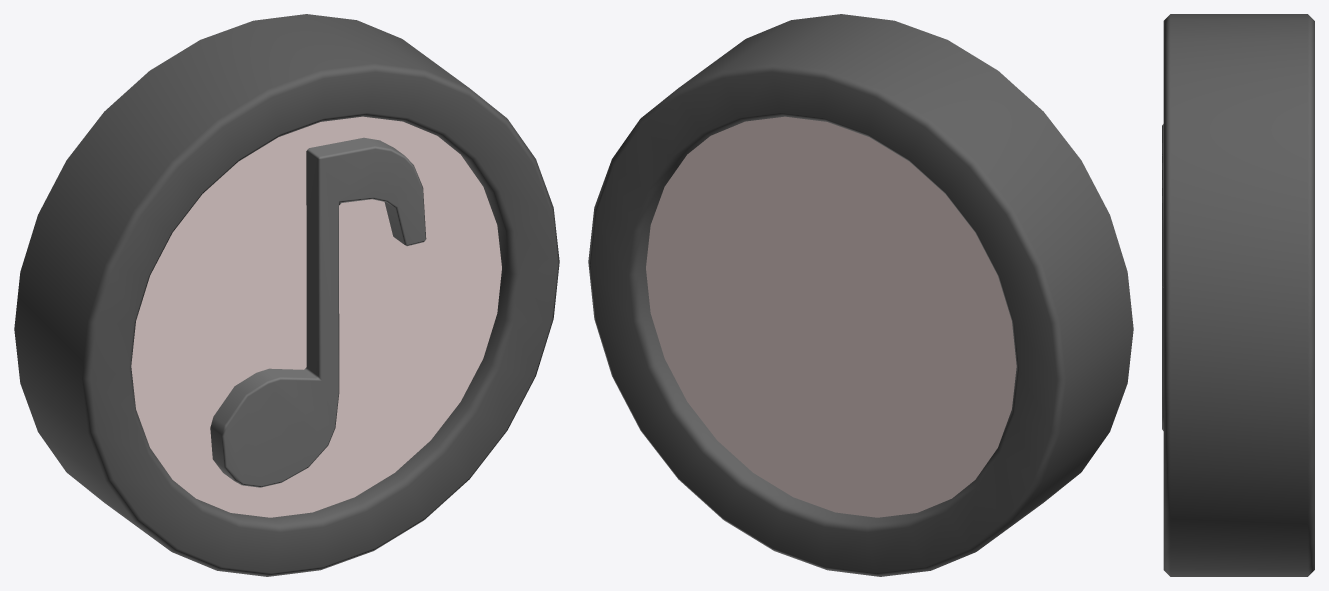
File: Store_13_Note_Sign_2.glb
3 renders of one model, left to right at view 1: azimuth 30°, elevation 25°; view 2: azimuth 150°, elevation 25°; view 3: azimuth 270°, elevation 25°, orthographic. The views are drawn at different scales.
Visible parts, largest first — view 1: Store_13_Note_Sign_2; view 2: Store_13_Note_Sign_2; view 3: Store_13_Note_Sign_2.
Part boxes in pixels (x1=…): Store_13_Note_Sign_2: x1=14, y1=14, x2=559, y2=576; Store_13_Note_Sign_2: x1=588, y1=14, x2=1133, y2=576; Store_13_Note_Sign_2: x1=1162, y1=14, x2=1314, y2=576.
Size of the model in its own units: 1.09 by 1.09 by 0.2957.
1 material, 1 textured.
